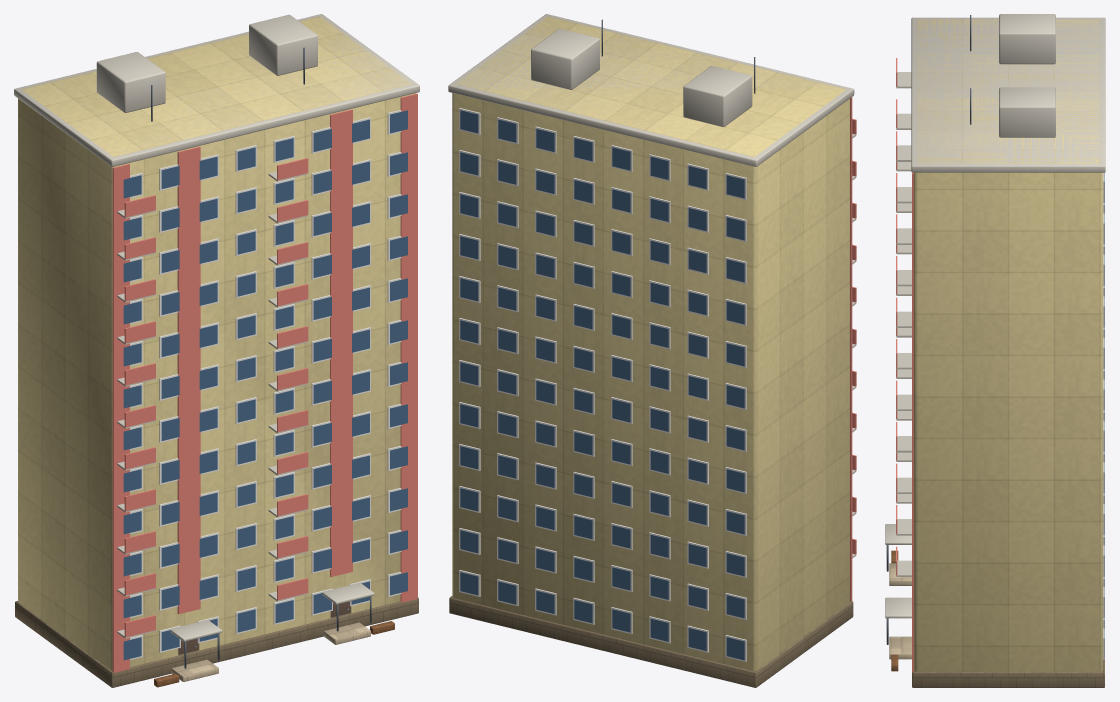
The model's file is panel_b.gltf.
The picture shows the model from 3 angles, left to right: view 1: azimuth 30°, elevation 25°; view 2: azimuth 150°, elevation 25°; view 3: azimuth 270°, elevation 25°; orthographic projection.
Visible parts, largest first — view 1: panel_b_mesh; view 2: panel_b_mesh; view 3: panel_b_mesh.
Part boxes in pixels (x1,y1,x2,y2): panel_b_mesh: (14, 14, 419, 687); panel_b_mesh: (448, 14, 856, 687); panel_b_mesh: (885, 14, 1105, 687).
Size of what is drawn, in the model's own units: 22.3 by 39 by 13.95.
Materials: 13 (4 with a texture image).
